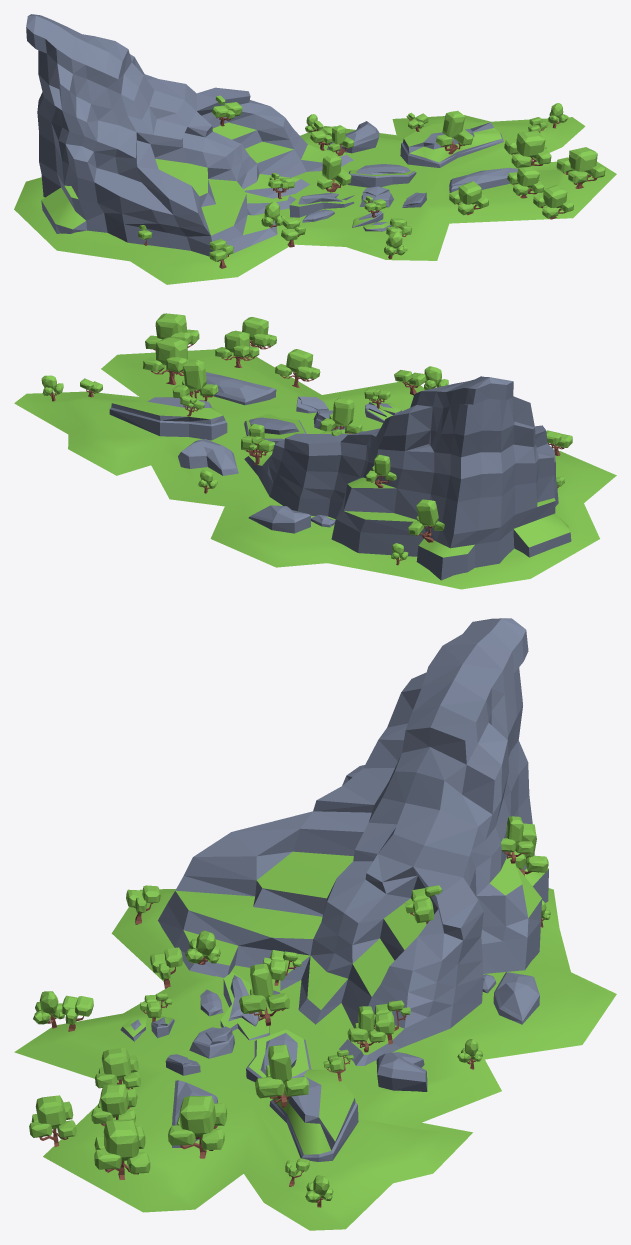
The model's file is geostructures_no9.fbx.
The picture shows the model from 3 angles, top to bottom: view 1: azimuth 30°, elevation 25°; view 2: azimuth 150°, elevation 25°; view 3: azimuth 270°, elevation 25°; orthographic projection. The views are drawn at different scales.
Parts seen in each view (by area): view 1: landform_09shrubbed:geology, landform_09shrubbed:shrubs; view 2: landform_09shrubbed:geology, landform_09shrubbed:shrubs; view 3: landform_09shrubbed:geology, landform_09shrubbed:shrubs.
Part boxes in pixels (x1=…): landform_09shrubbed:geology: x1=14, y1=14, x2=616, y2=284; landform_09shrubbed:shrubs: x1=138, y1=95, x2=605, y2=268; landform_09shrubbed:geology: x1=14, y1=349, x2=616, y2=589; landform_09shrubbed:shrubs: x1=41, y1=313, x2=572, y2=565; landform_09shrubbed:geology: x1=14, y1=618, x2=616, y2=1230; landform_09shrubbed:shrubs: x1=29, y1=816, x2=550, y2=1207.
Size of the model in its own units: 41551 by 14267 by 28239.
